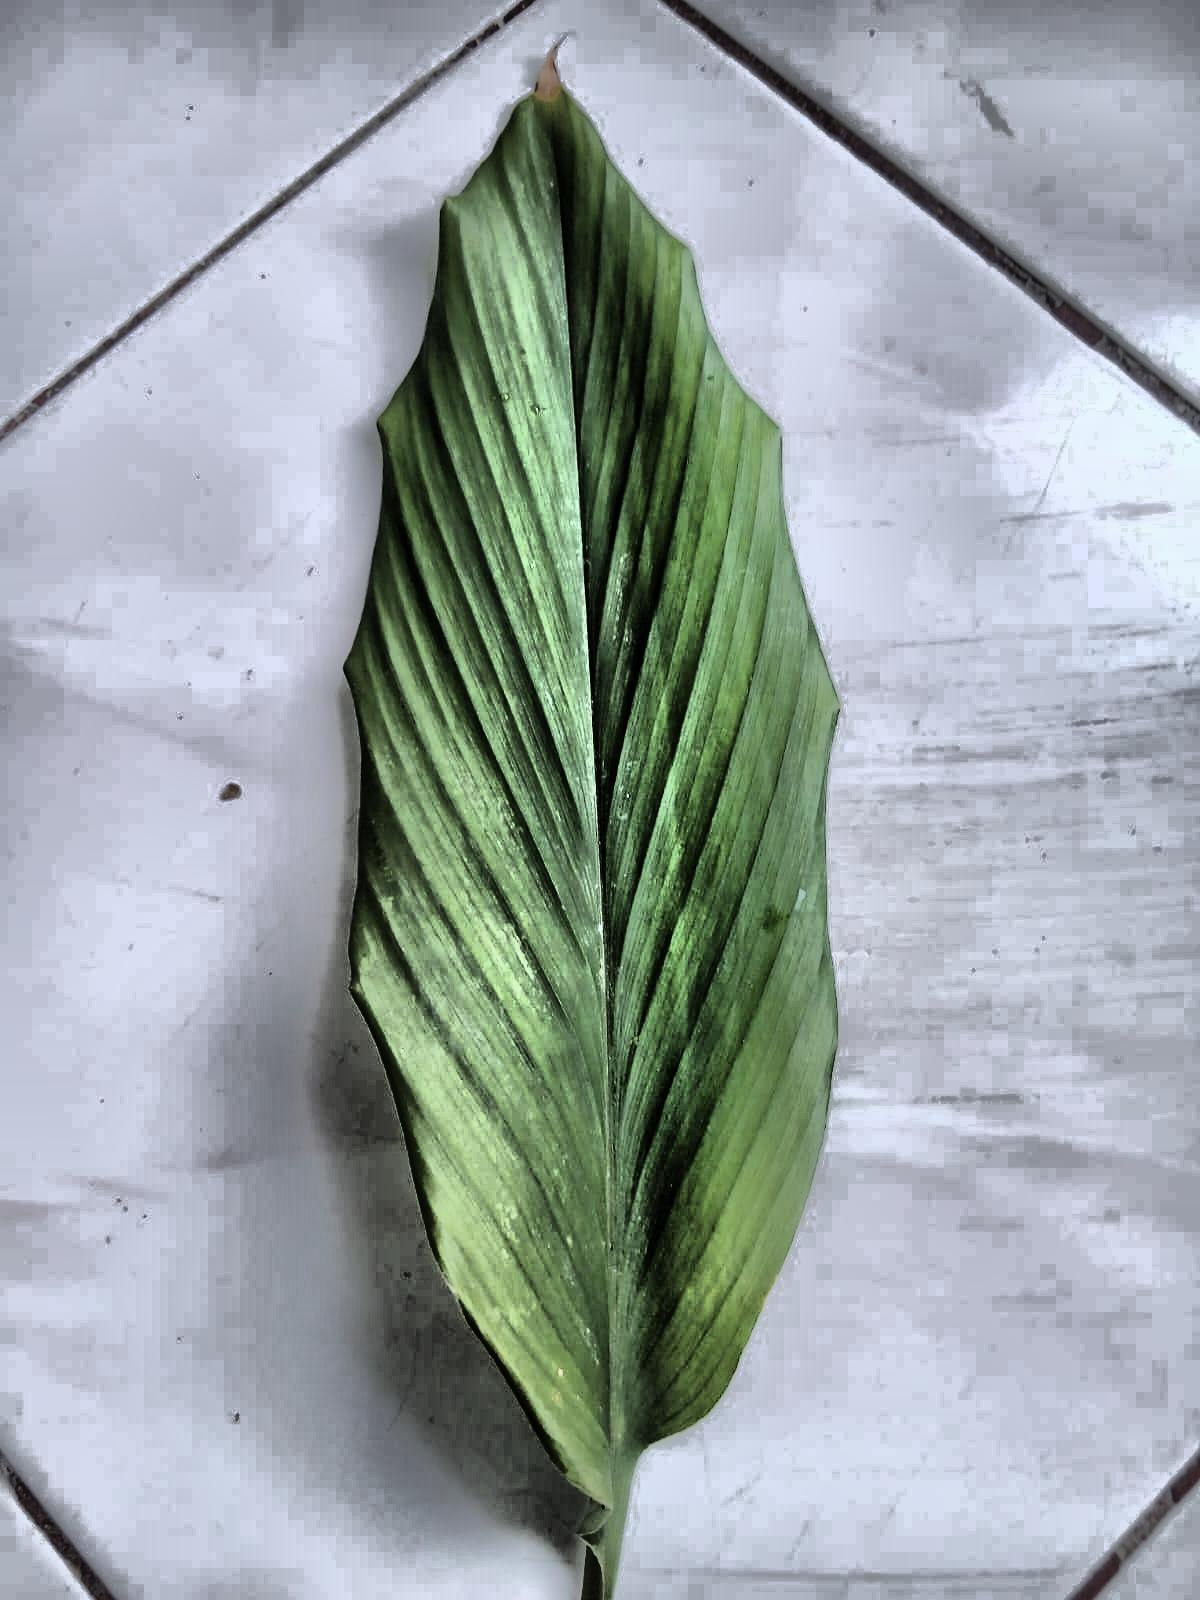daun kunyit: (345, 63, 838, 1599)
